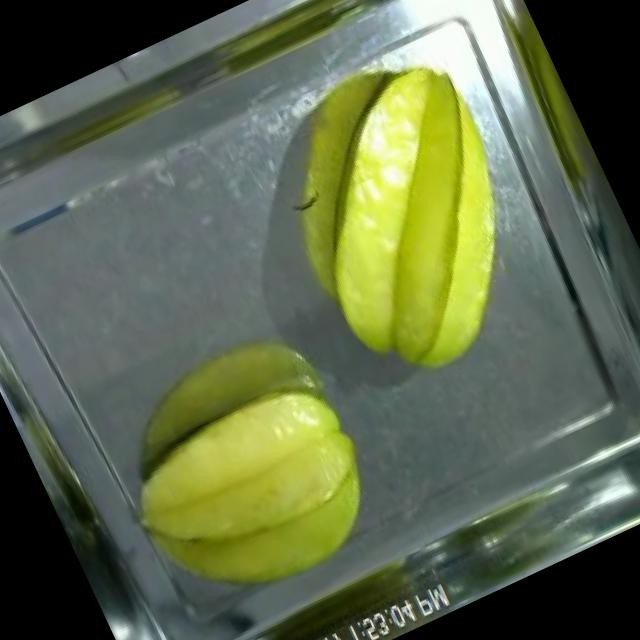fruit: (243, 39, 576, 416), (102, 358, 410, 640)
